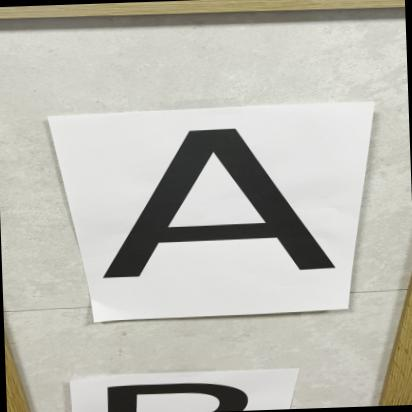seat: (106, 111, 336, 300)
